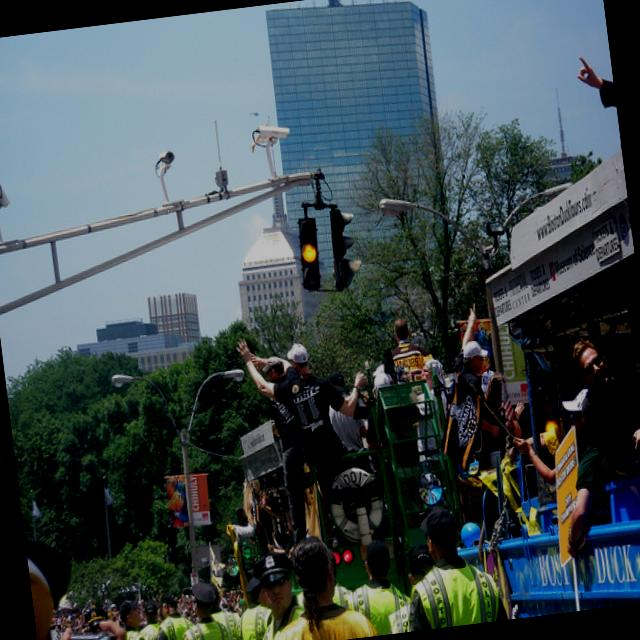Vehicle: (400, 134, 640, 625)
